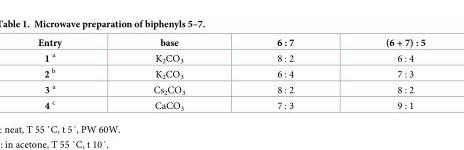table: (37, 37, 424, 111)
table column: (106, 37, 230, 111), (230, 37, 339, 111), (339, 37, 424, 111), (37, 37, 106, 111)
table column header: (37, 37, 424, 49)
table row: (37, 49, 424, 65), (37, 65, 424, 81), (37, 81, 424, 97), (37, 97, 424, 111), (37, 37, 424, 49)
